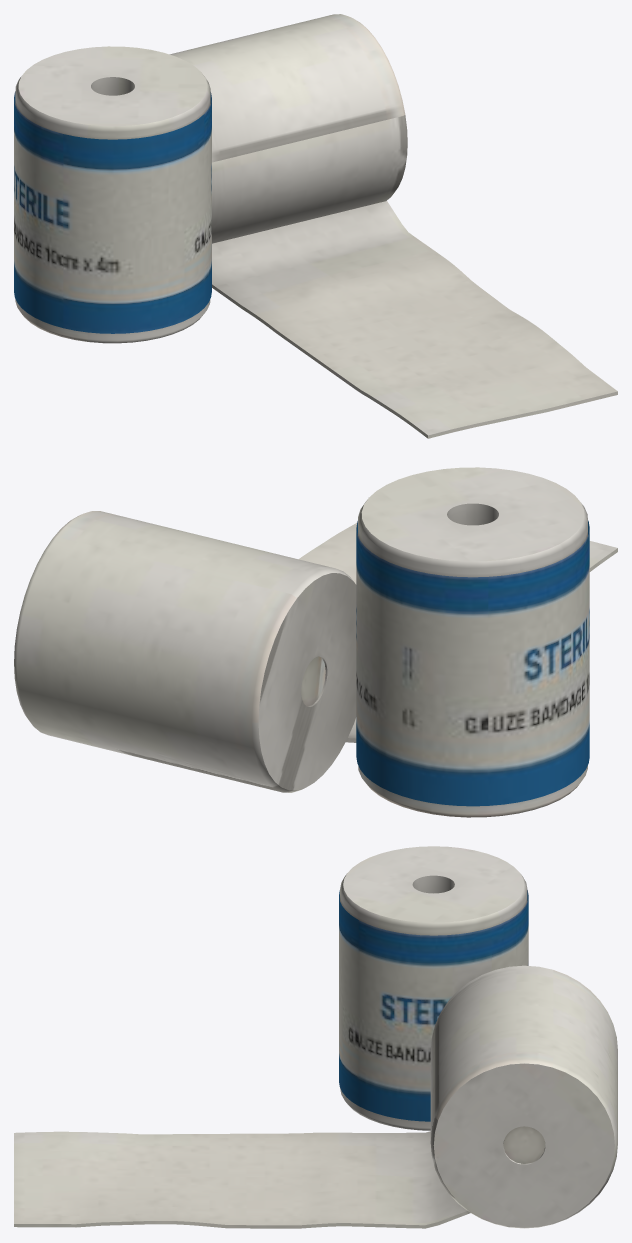
Rendered from item_bandage.glb.
3 views of the same model, one above another, from view 1: azimuth 30°, elevation 25°; view 2: azimuth 150°, elevation 25°; view 3: azimuth 270°, elevation 25° (orthographic). The views are drawn at different scales.
Visible parts, largest first — view 1: body; view 2: body; view 3: body.
Part boxes in pixels (left/top/right/bottom): body: left=14, top=14, right=617, bottom=438; body: left=14, top=467, right=617, bottom=817; body: left=14, top=846, right=617, bottom=1228.
Size of the model in its own units: 0.1394 by 0.0763 by 0.2.
Materials: 1 (1 with a texture image).
